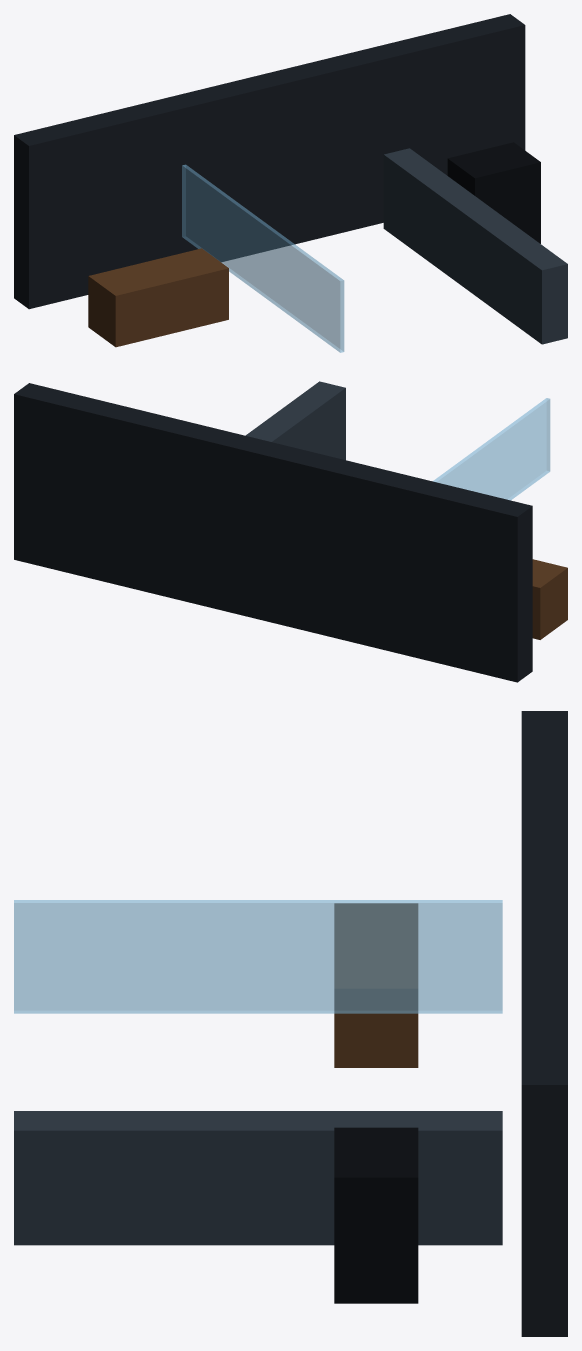
Rendered from module.room_glass_admin_split.glb.
3 views of the same model, one above another, from view 1: azimuth 30°, elevation 25°; view 2: azimuth 150°, elevation 25°; view 3: azimuth 270°, elevation 25° (orthographic). The views are drawn at different scales.
Parts seen in each view (by area): view 1: back_wall, right_half_wall, left_glass_office, admin_desk, server_cover; view 2: back_wall, left_glass_office, right_half_wall, admin_desk; view 3: right_half_wall, left_glass_office, back_wall, server_cover, admin_desk.
Part boxes in pixels (x1=…): back_wall: x1=14, y1=14, x2=525, y2=309; right_half_wall: x1=383, y1=148, x2=567, y2=344; left_glass_office: x1=182, y1=164, x2=344, y2=352; admin_desk: x1=88, y1=248, x2=228, y2=347; server_cover: x1=447, y1=142, x2=540, y2=243; back_wall: x1=14, y1=383, x2=532, y2=682; left_glass_office: x1=433, y1=398, x2=550, y2=500; right_half_wall: x1=245, y1=381, x2=345, y2=460; admin_desk: x1=532, y1=559, x2=567, y2=639; right_half_wall: x1=14, y1=1111, x2=502, y2=1245; left_glass_office: x1=14, y1=900, x2=502, y2=1013; back_wall: x1=521, y1=711, x2=567, y2=1336; server_cover: x1=334, y1=1127, x2=418, y2=1303; admin_desk: x1=334, y1=903, x2=418, y2=1067.
Bounding box in the file's own units: 10.5 × 3.3 × 6.58.
